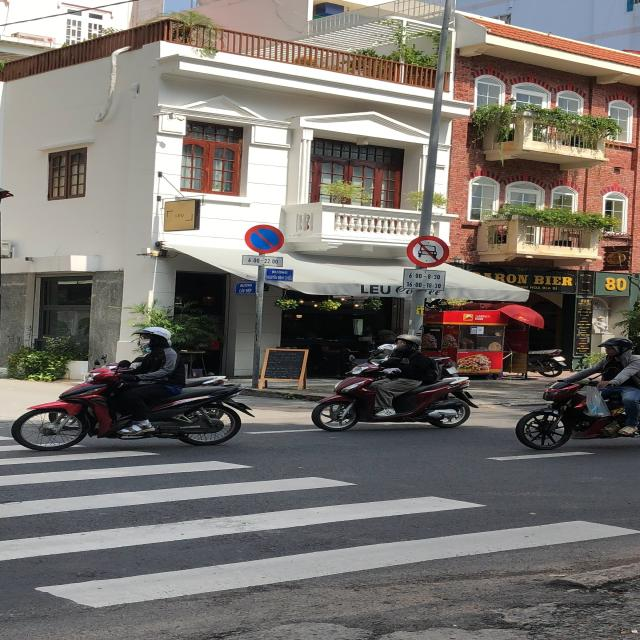Bien bao cam do xe: (238, 220, 288, 256)
Bien bao cam xe oto: (406, 232, 450, 274)
